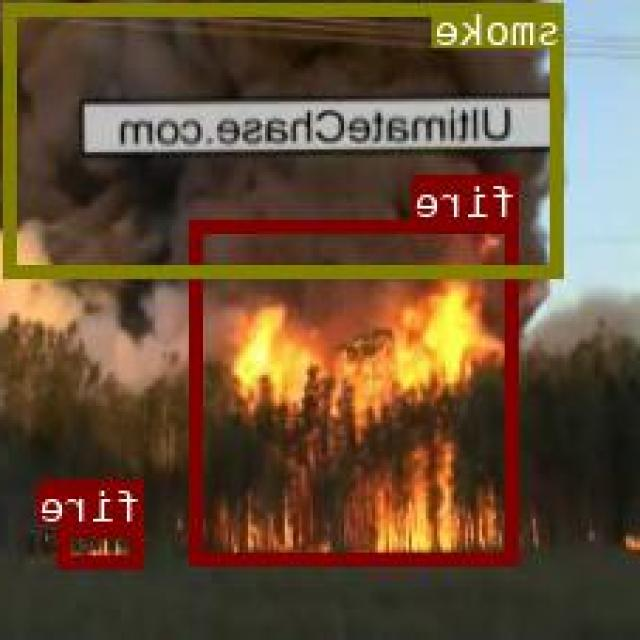fire: (193, 219, 520, 562), (60, 524, 144, 566)
smoke: (8, 2, 566, 274)
